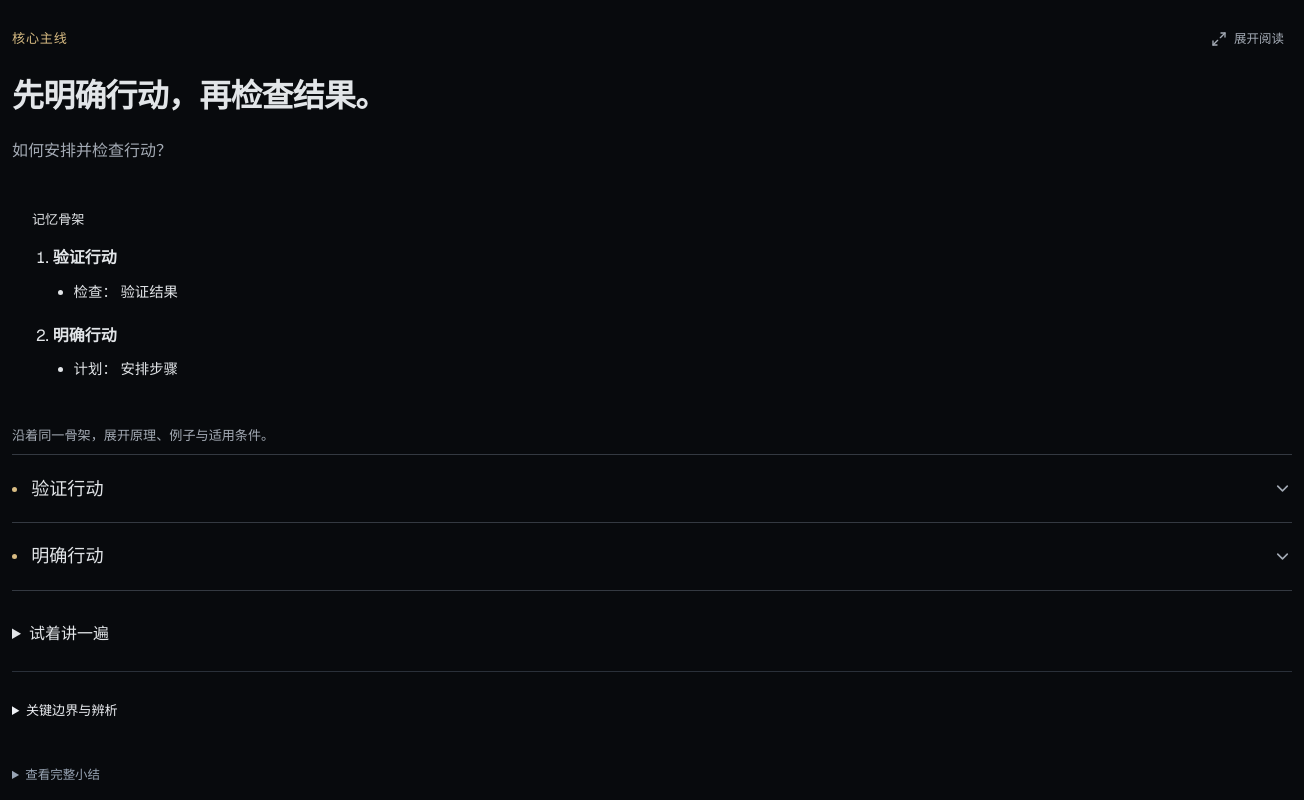
Test: KnowledgeSummaryView › renders the complete question summary as readable sections without storage tables or identifiers
Click the heading "查看完整小结". click: (63, 774)
box: [25,766,100,782]
(page scrolled)
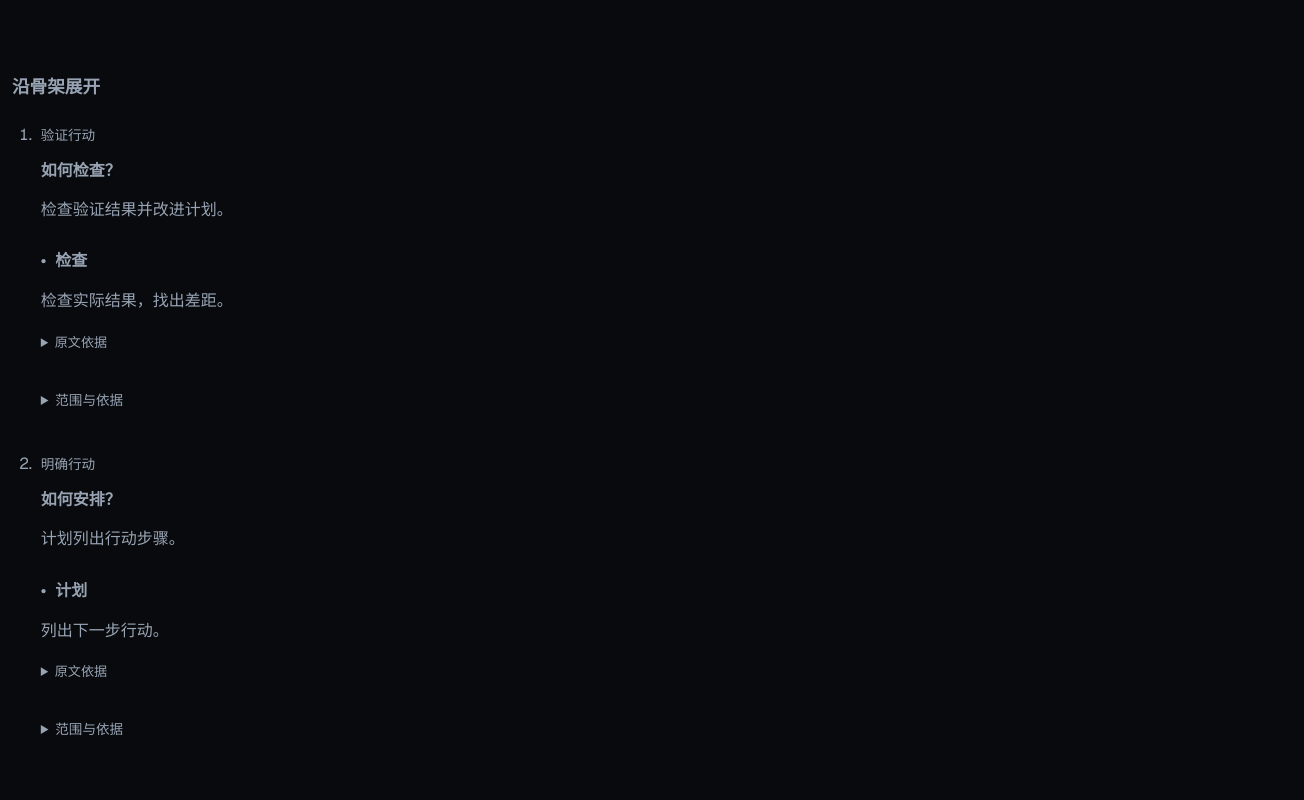
Check: the text "计划列出行动步骤。" is shown once, box [41,528,185,550]
Check: the text "检查验证结果并改进计划。" is shown once, box [41,199,233,220]
Check: the text "列出下一步行动。" is shown once, box [41,620,169,641]
Click the heading "范围与依据" below "如何检查？". click: (89, 400)
box: [55,391,123,409]
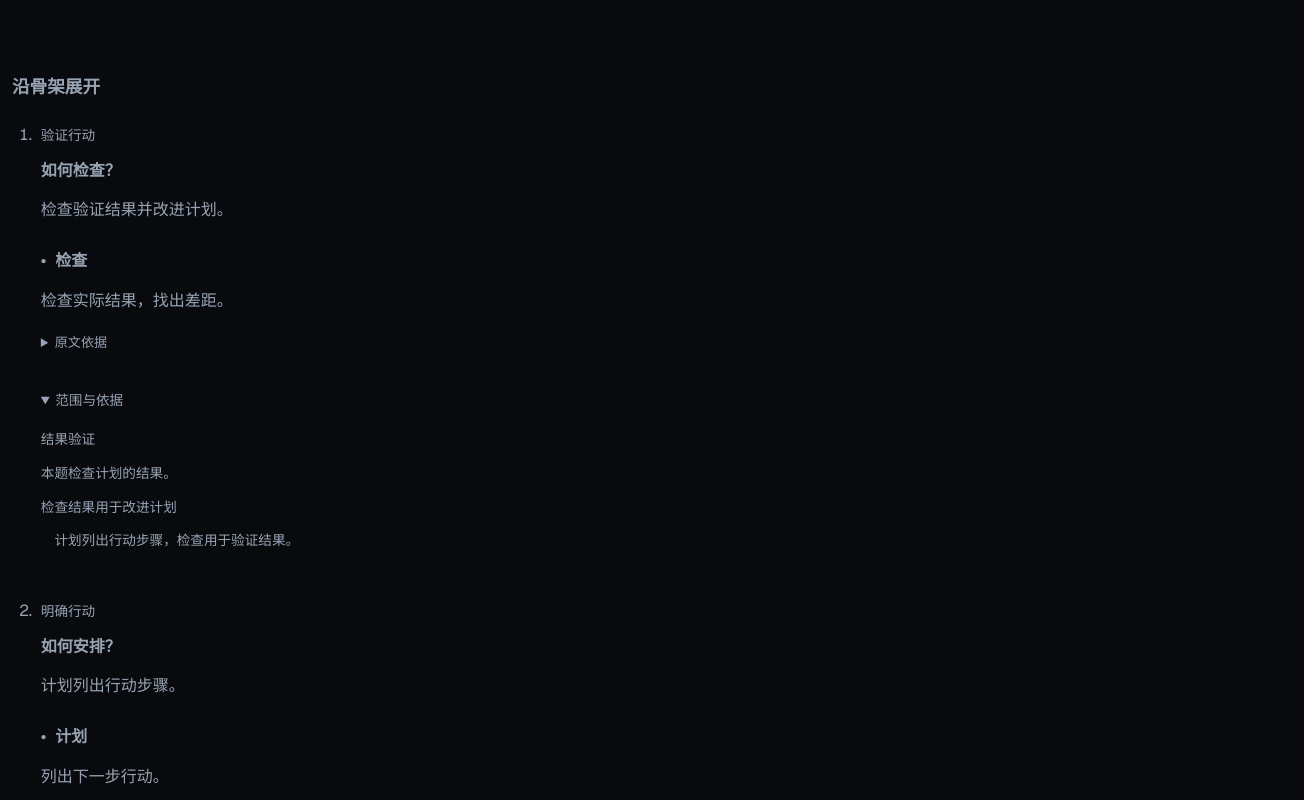
Check: the text "本题检查计划的结果。" is shown, box [41,464,177,482]
Check: the text "检查结果用于改进计划" is shown, box [41,498,177,516]
